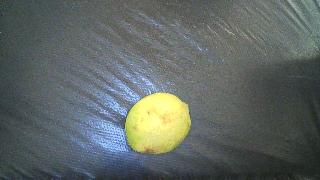DESECHO: (125, 93, 191, 154)
